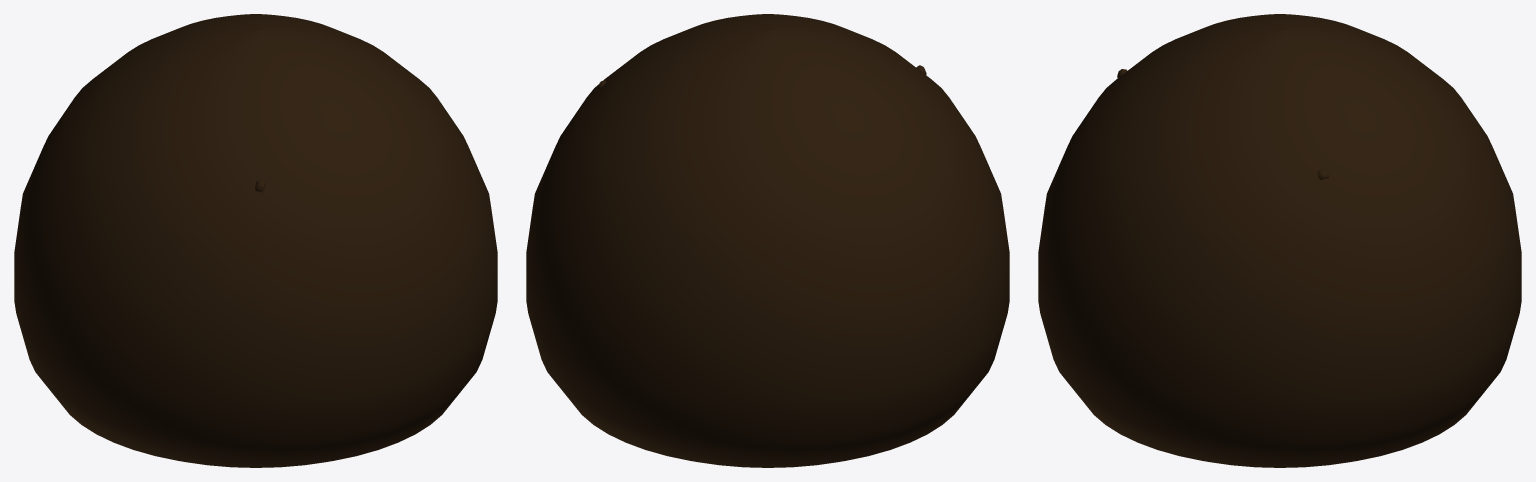
Rendered from short-hair.glb.
3 views of the same model, side by side, from view 1: azimuth 30°, elevation 25°; view 2: azimuth 150°, elevation 25°; view 3: azimuth 270°, elevation 25° (orthographic).
Size of the model in its own units: 0.3888 by 0.328 by 0.3888.
